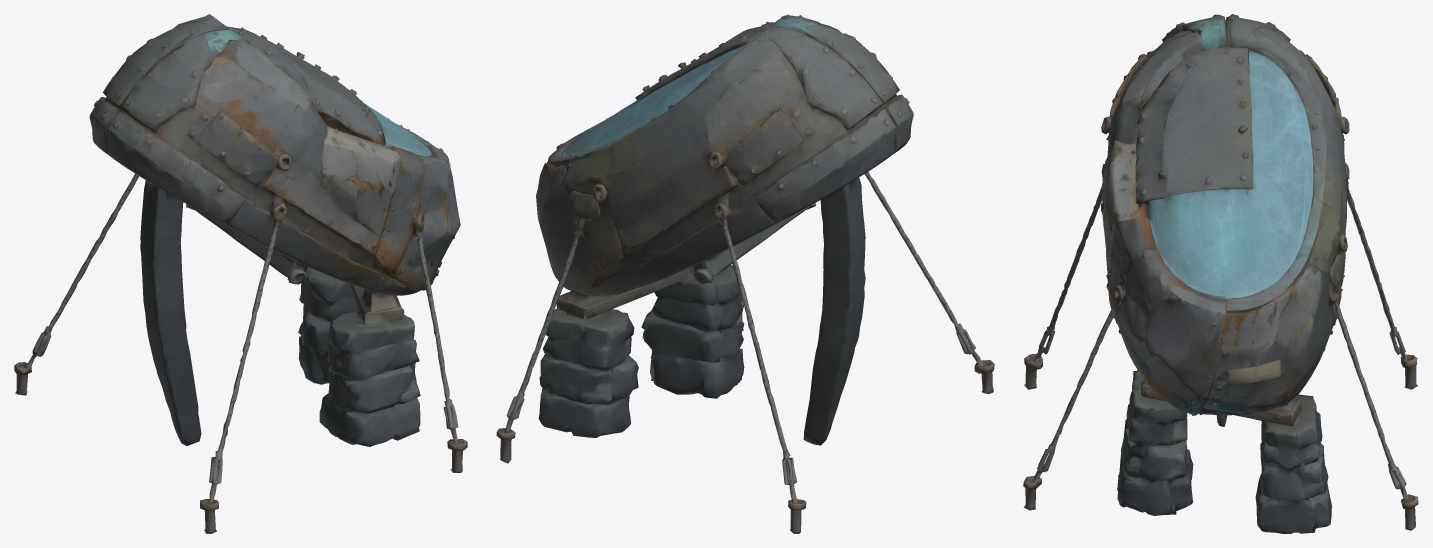
Rendered from pod-p3.glb.
The picture shows the model from 3 angles, left to right: view 1: azimuth 30°, elevation 25°; view 2: azimuth 150°, elevation 25°; view 3: azimuth 270°, elevation 25°; orthographic projection.
Visible parts, largest first — view 1: tripo_node_c838d73f-e734-454c-abca-a6ac19346359; view 2: tripo_node_c838d73f-e734-454c-abca-a6ac19346359; view 3: tripo_node_c838d73f-e734-454c-abca-a6ac19346359.
Part boxes in pixels (x1,y1,x2,y2): tripo_node_c838d73f-e734-454c-abca-a6ac19346359: (14,14,467,533); tripo_node_c838d73f-e734-454c-abca-a6ac19346359: (496,14,994,533); tripo_node_c838d73f-e734-454c-abca-a6ac19346359: (1023,14,1418,533).
Size of the model in its own units: 1.55 by 1.8 by 1.56.
1 material, 1 textured.
